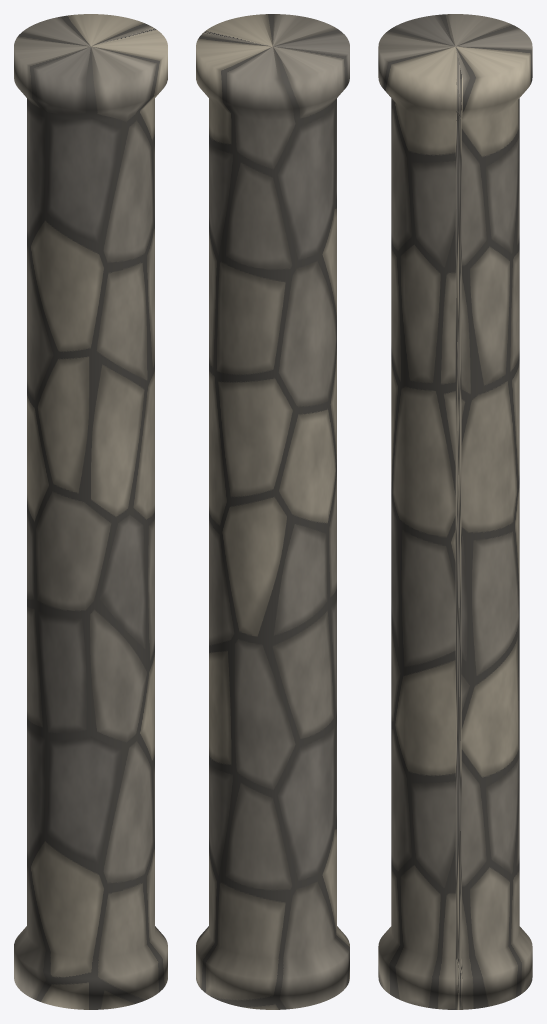
File: Oszlop_kor.obj
3 views of the same model, side by side, from view 1: azimuth 30°, elevation 25°; view 2: azimuth 150°, elevation 25°; view 3: azimuth 270°, elevation 25° (orthographic).
Bounding box in the file's own units: 0.36 × 2.4 × 0.36.
1 material, 1 textured.
